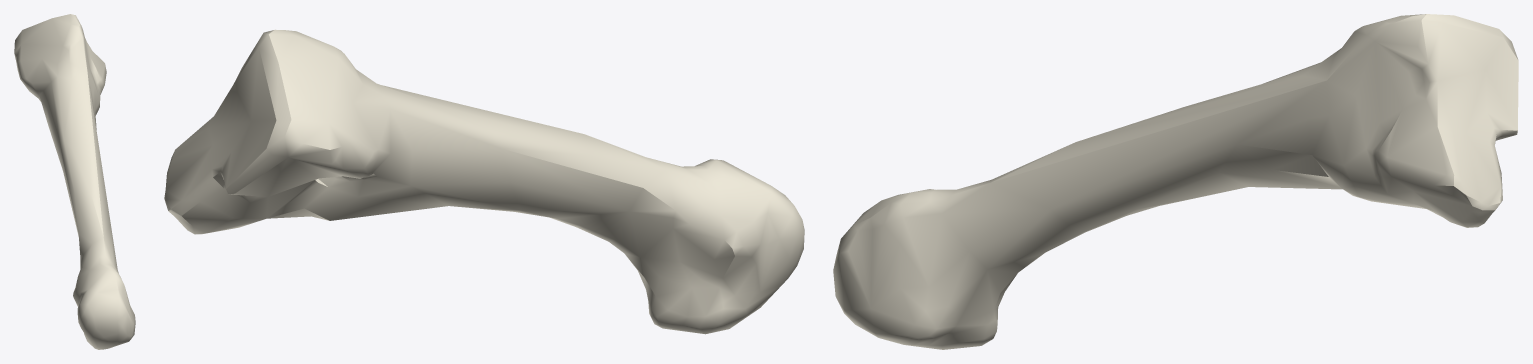
The model's file is fma24511_fj3355.glb.
The picture shows the model from 3 angles, left to right: view 1: azimuth 30°, elevation 25°; view 2: azimuth 150°, elevation 25°; view 3: azimuth 270°, elevation 25°; orthographic projection. The views are drawn at different scales.
Parts seen in each view (by area): view 1: FMA24511_FJ3355; view 2: FMA24511_FJ3355; view 3: FMA24511_FJ3355.
Boxes of the visible parts, bbox=[...] form: FMA24511_FJ3355: bbox=[14, 14, 135, 349]; FMA24511_FJ3355: bbox=[164, 29, 804, 334]; FMA24511_FJ3355: bbox=[833, 14, 1518, 349].
Bounding box in the file's own units: 0.0353 × 0.0427 × 0.0625.
